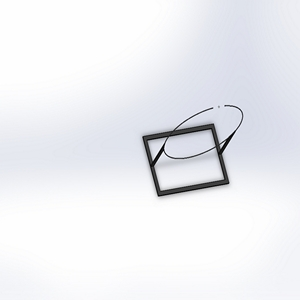circle: (137, 102, 243, 197)
